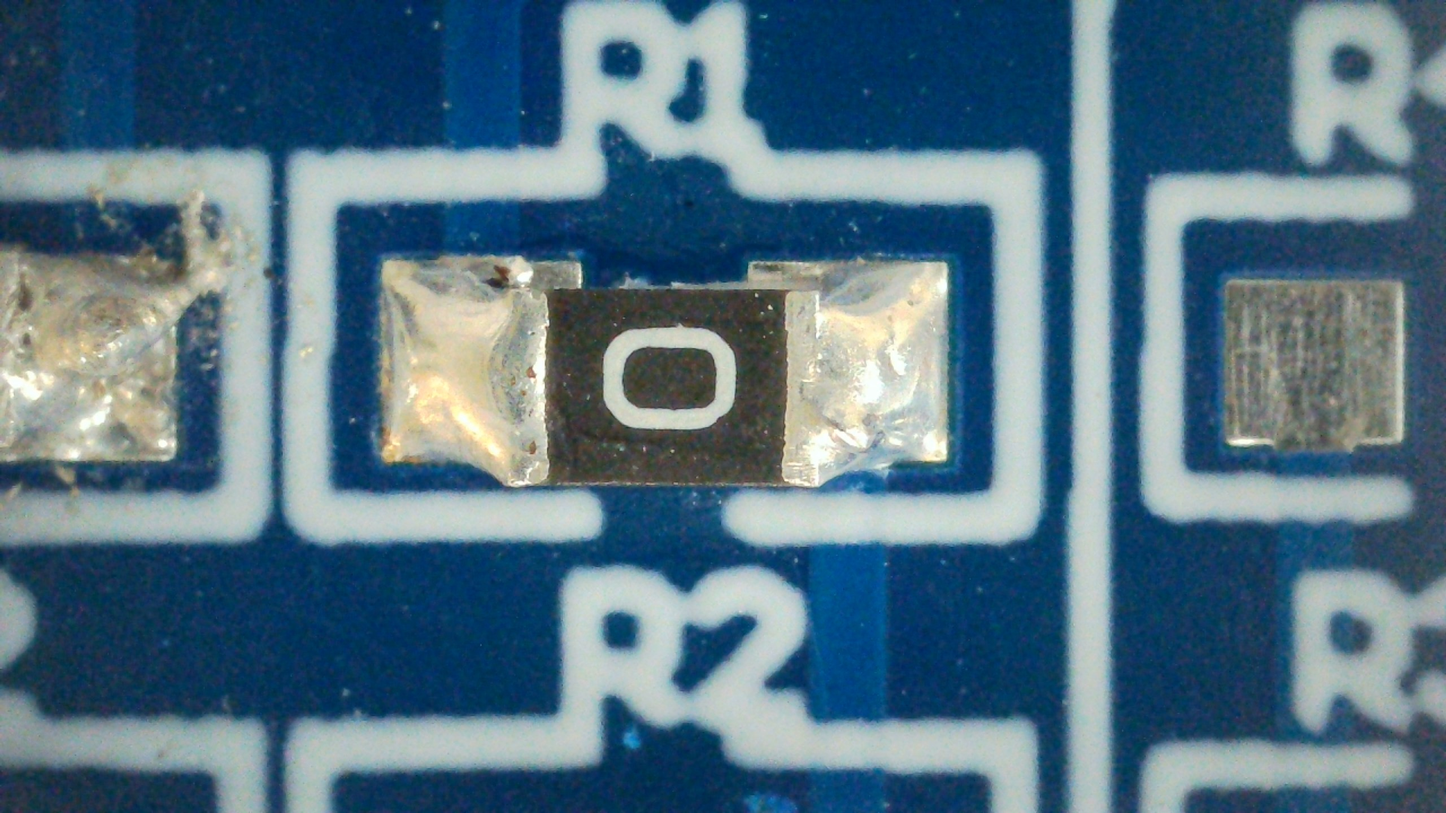NG: (383, 259, 947, 487)
